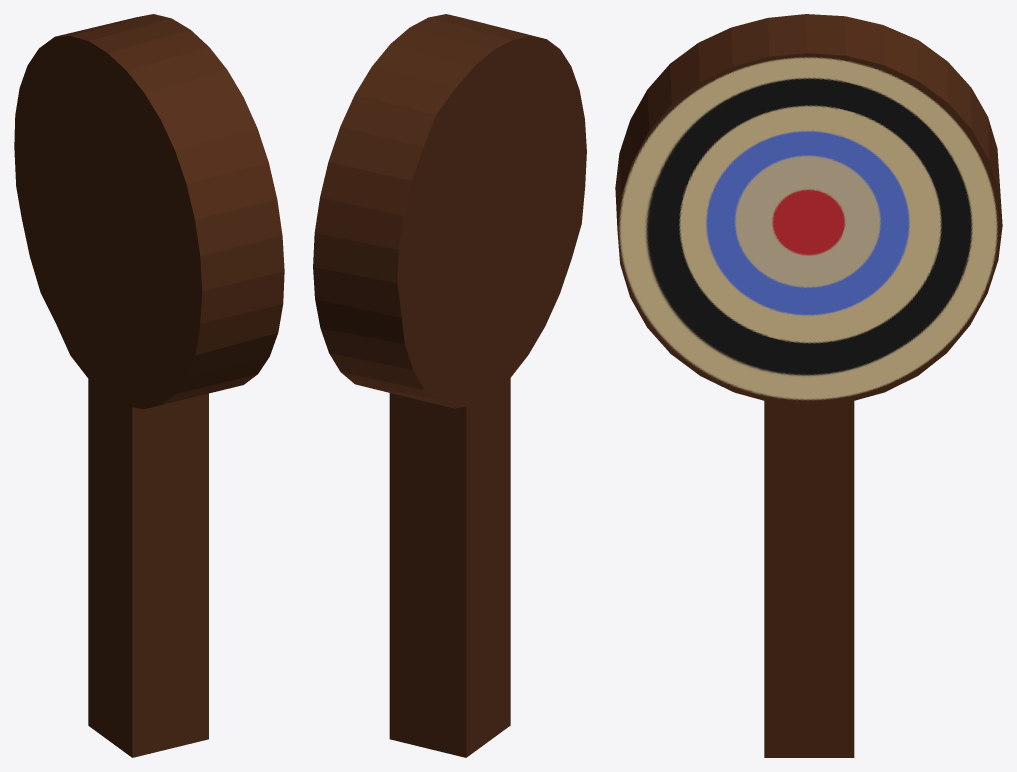
The model's file is target.fbx.
3 views of the same model, side by side, from view 1: azimuth 30°, elevation 25°; view 2: azimuth 150°, elevation 25°; view 3: azimuth 270°, elevation 25° (orthographic).
Parts seen in each view (by area): view 1: Cylinder; view 2: Cylinder; view 3: Cylinder.
Boxes of the visible parts, x1,y1,x2,y2 form: Cylinder: (14,14,284,757); Cylinder: (313,14,586,757); Cylinder: (615,14,1002,757).
Bounding box in the file's own units: 50.77 × 398 × 198.
